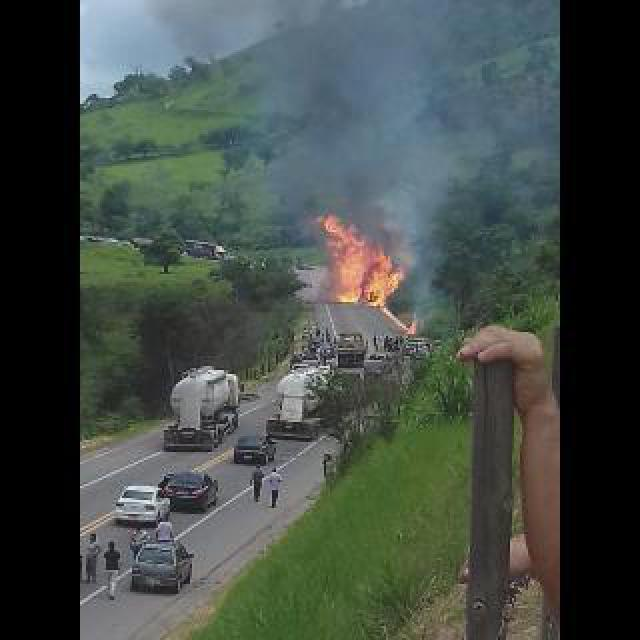fire: (316, 216, 416, 334)
smoke: (180, 0, 472, 294)
